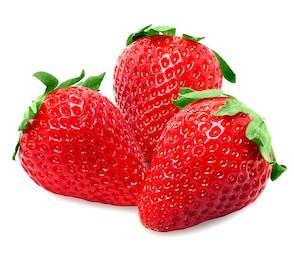Fresa: (135, 88, 279, 236), (18, 81, 157, 213), (106, 25, 234, 163)
